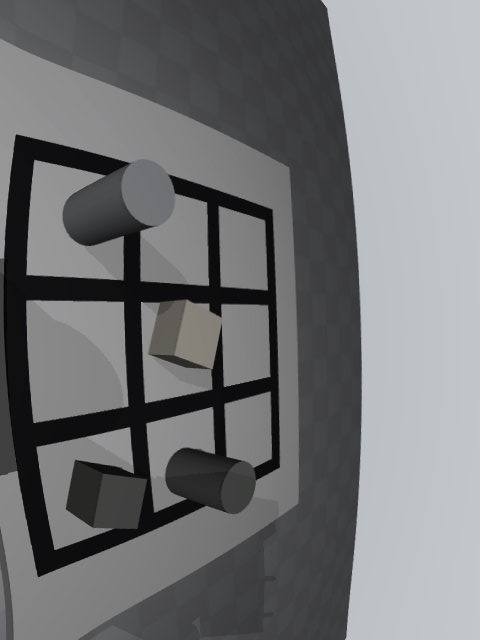can: (62, 159, 176, 246)
cube: (66, 460, 147, 529)
cylinder: (165, 447, 256, 514)
foam: (148, 300, 223, 369)
